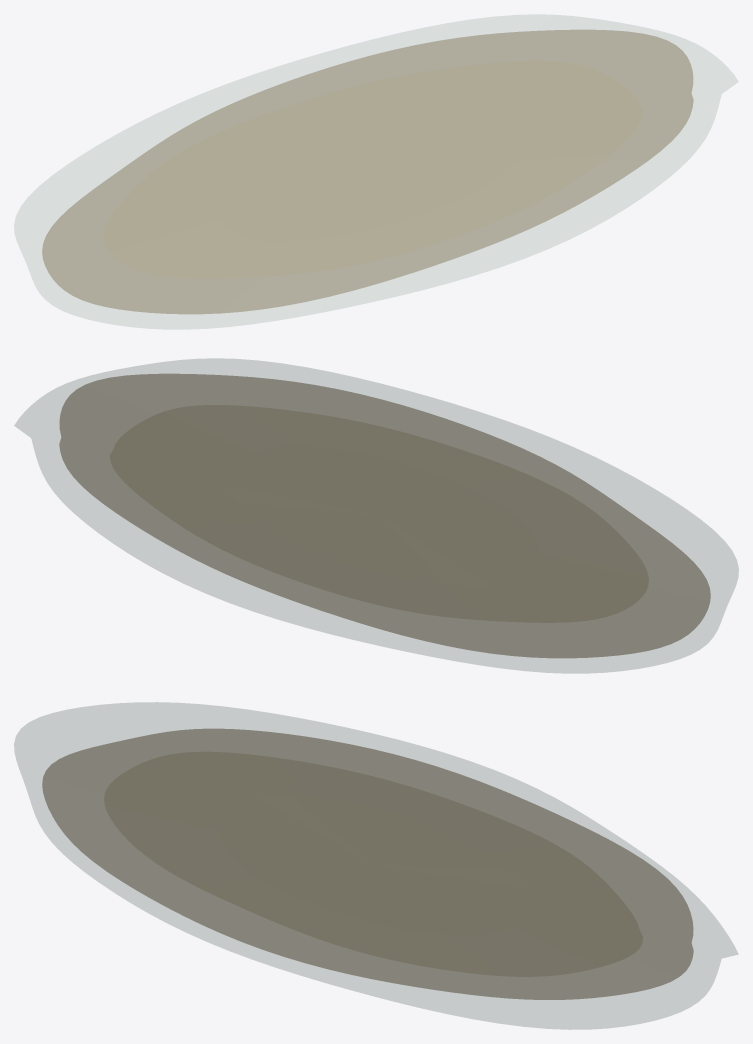
File: hl-sandbar-alpha-v1.glb
3 renders of one model, top to bottom at view 1: azimuth 30°, elevation 25°; view 2: azimuth 150°, elevation 25°; view 3: azimuth 330°, elevation 25°, orthographic.
Visible parts, largest first — view 1: HL Sandbar Alpha v1; view 2: HL Sandbar Alpha v1; view 3: HL Sandbar Alpha v1.
Boxes of the visible parts, x1,y1,x2,y2 form: HL Sandbar Alpha v1: (14, 14, 738, 329); HL Sandbar Alpha v1: (14, 358, 738, 673); HL Sandbar Alpha v1: (14, 702, 738, 1029).
Bounding box in the file's own units: 286 × 99.1 × 0.137.
